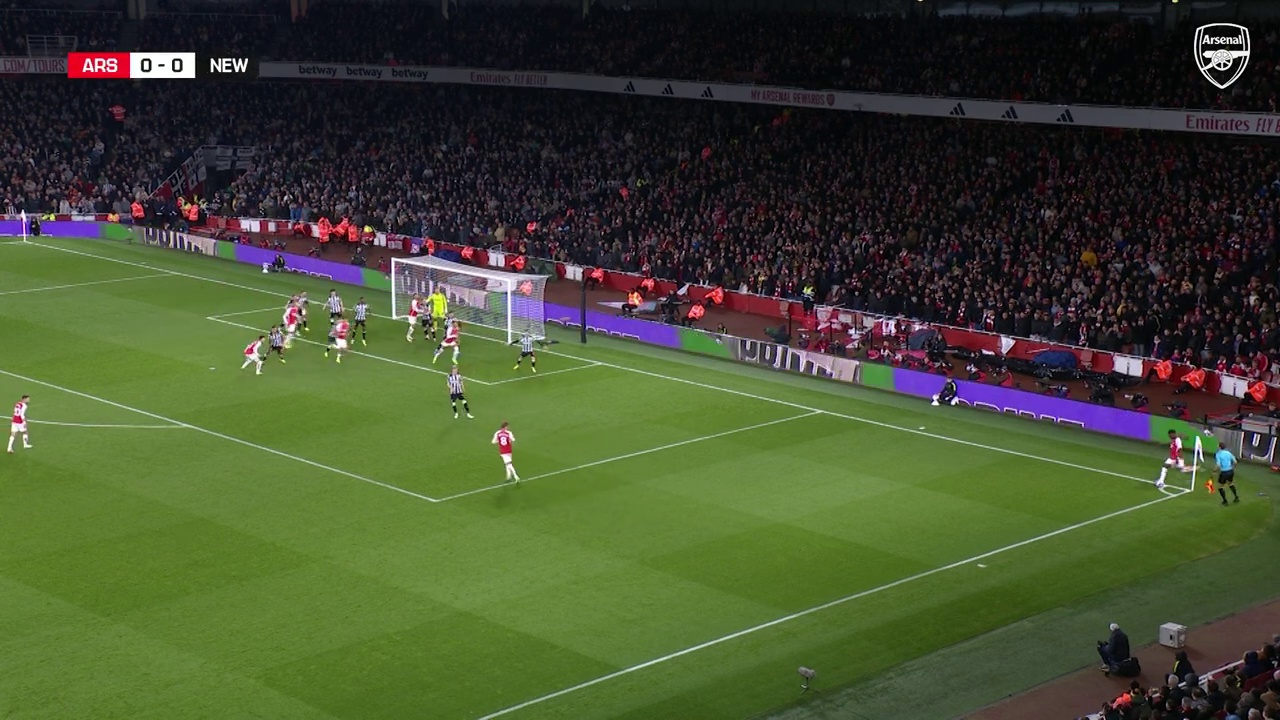ball: (1183, 518, 1205, 540)
